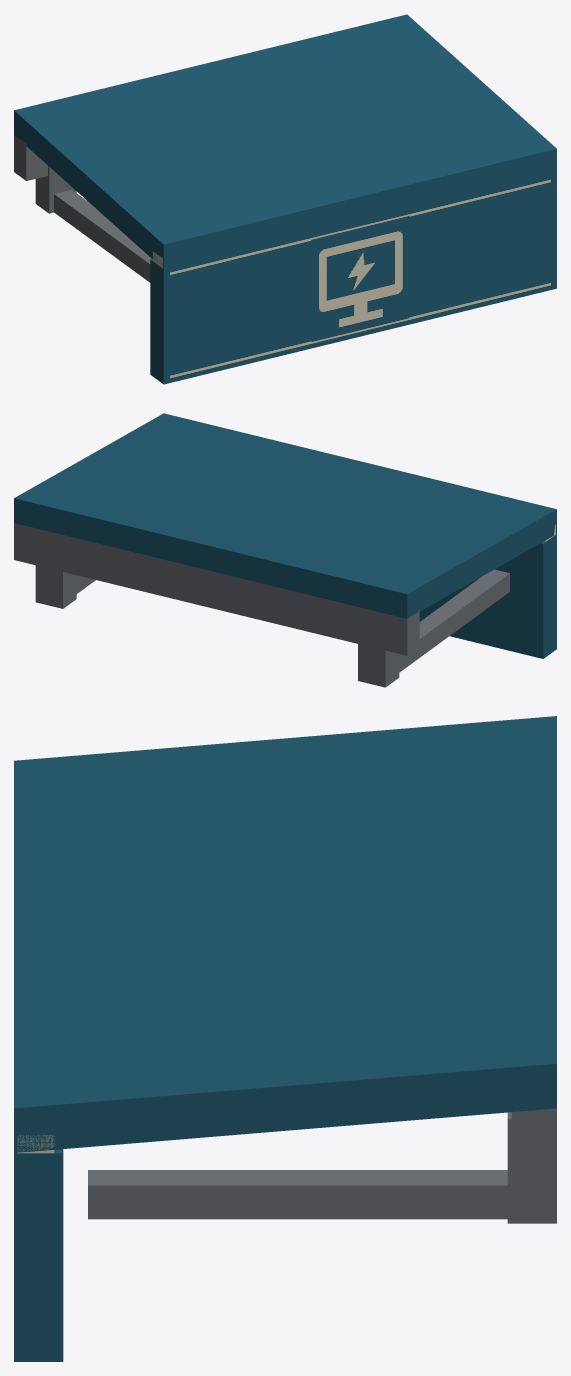
Rendered from building-business-electronics-compact.glb.
3 renders of one model, top to bottom at view 1: azimuth 30°, elevation 25°; view 2: azimuth 150°, elevation 25°; view 3: azimuth 270°, elevation 25°, orthographic. The views are drawn at different scales.
Visible parts, largest first — view 1: business-electronics-compact; view 2: business-electronics-compact; view 3: business-electronics-compact.
Part boxes in pixels (x1=…): business-electronics-compact: x1=14, y1=14, x2=556, y2=384; business-electronics-compact: x1=14, y1=413, x2=556, y2=687; business-electronics-compact: x1=14, y1=716, x2=556, y2=1361.
Size of the model in its own units: 1 by 0.4 by 0.66.
4 materials, 1 textured.
